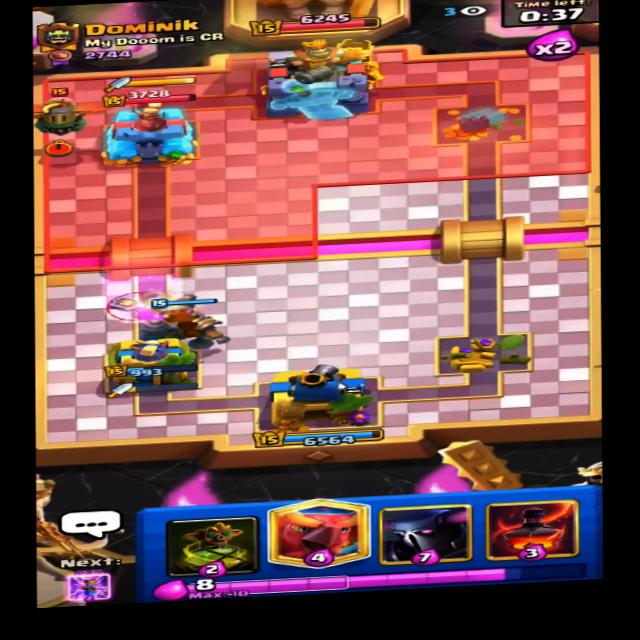Infernodragon: (30, 85, 101, 139)
